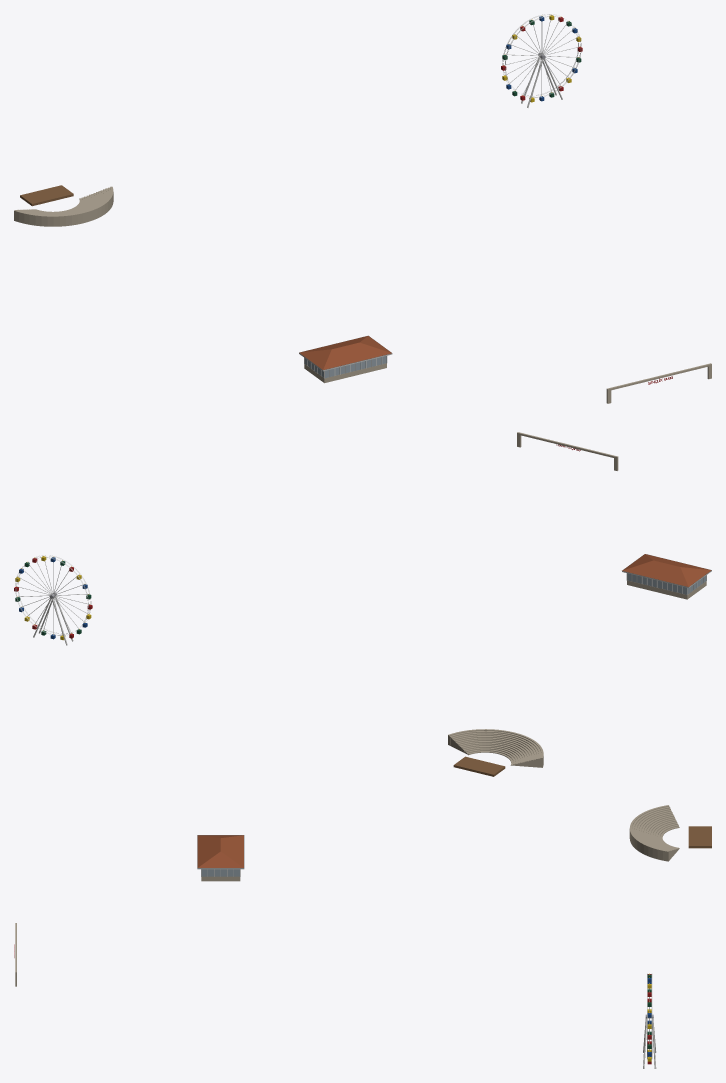
The model's file is simge_genclik_parki.glb.
3 views of the same model, one above another, from view 1: azimuth 30°, elevation 25°; view 2: azimuth 150°, elevation 25°; view 3: azimuth 270°, elevation 25° (orthographic). The views are drawn at different scales.
Visible parts, largest first — view 1: Simge_Genclik_Parki.001; view 2: Simge_Genclik_Parki.001; view 3: Simge_Genclik_Parki.001.
Boxes of the visible parts, <box> form: Simge_Genclik_Parki.001: <box>14,14,711,403</box>; Simge_Genclik_Parki.001: <box>14,432,711,776</box>; Simge_Genclik_Parki.001: <box>14,805,711,1068</box>.
Bounding box in the file's own units: 321 × 49.25 × 358.
